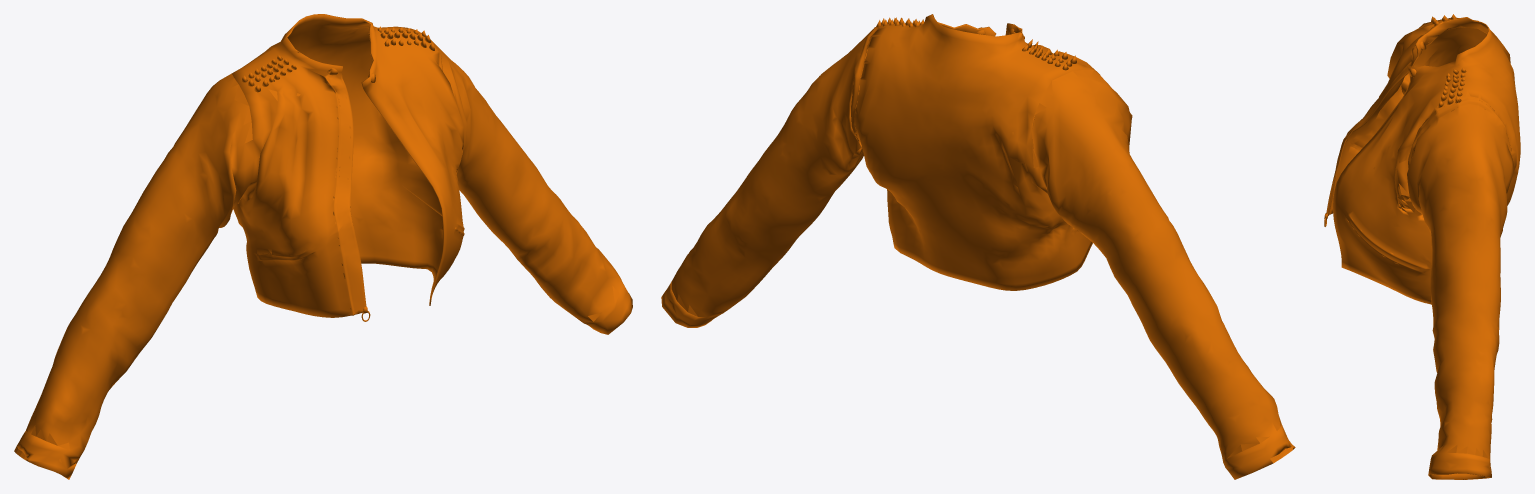
Rendered from jaquetafem2.glb.
3 renders of one model, left to right at view 1: azimuth 30°, elevation 25°; view 2: azimuth 150°, elevation 25°; view 3: azimuth 270°, elevation 25°, orthographic. The views are drawn at different scales.
Parts seen in each view (by area): view 1: hash_860228B4.model; view 2: hash_860228B4.model; view 3: hash_860228B4.model.
Part boxes in pixels (<box>): hash_860228B4.model: <box>14,14,632,479</box>; hash_860228B4.model: <box>661,14,1295,479</box>; hash_860228B4.model: <box>1324,14,1520,479</box>.
Bounding box in the file's own units: 1.11 × 0.6576 × 0.3382.
